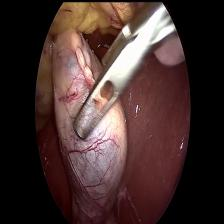Grasper: (67, 0, 179, 147)
